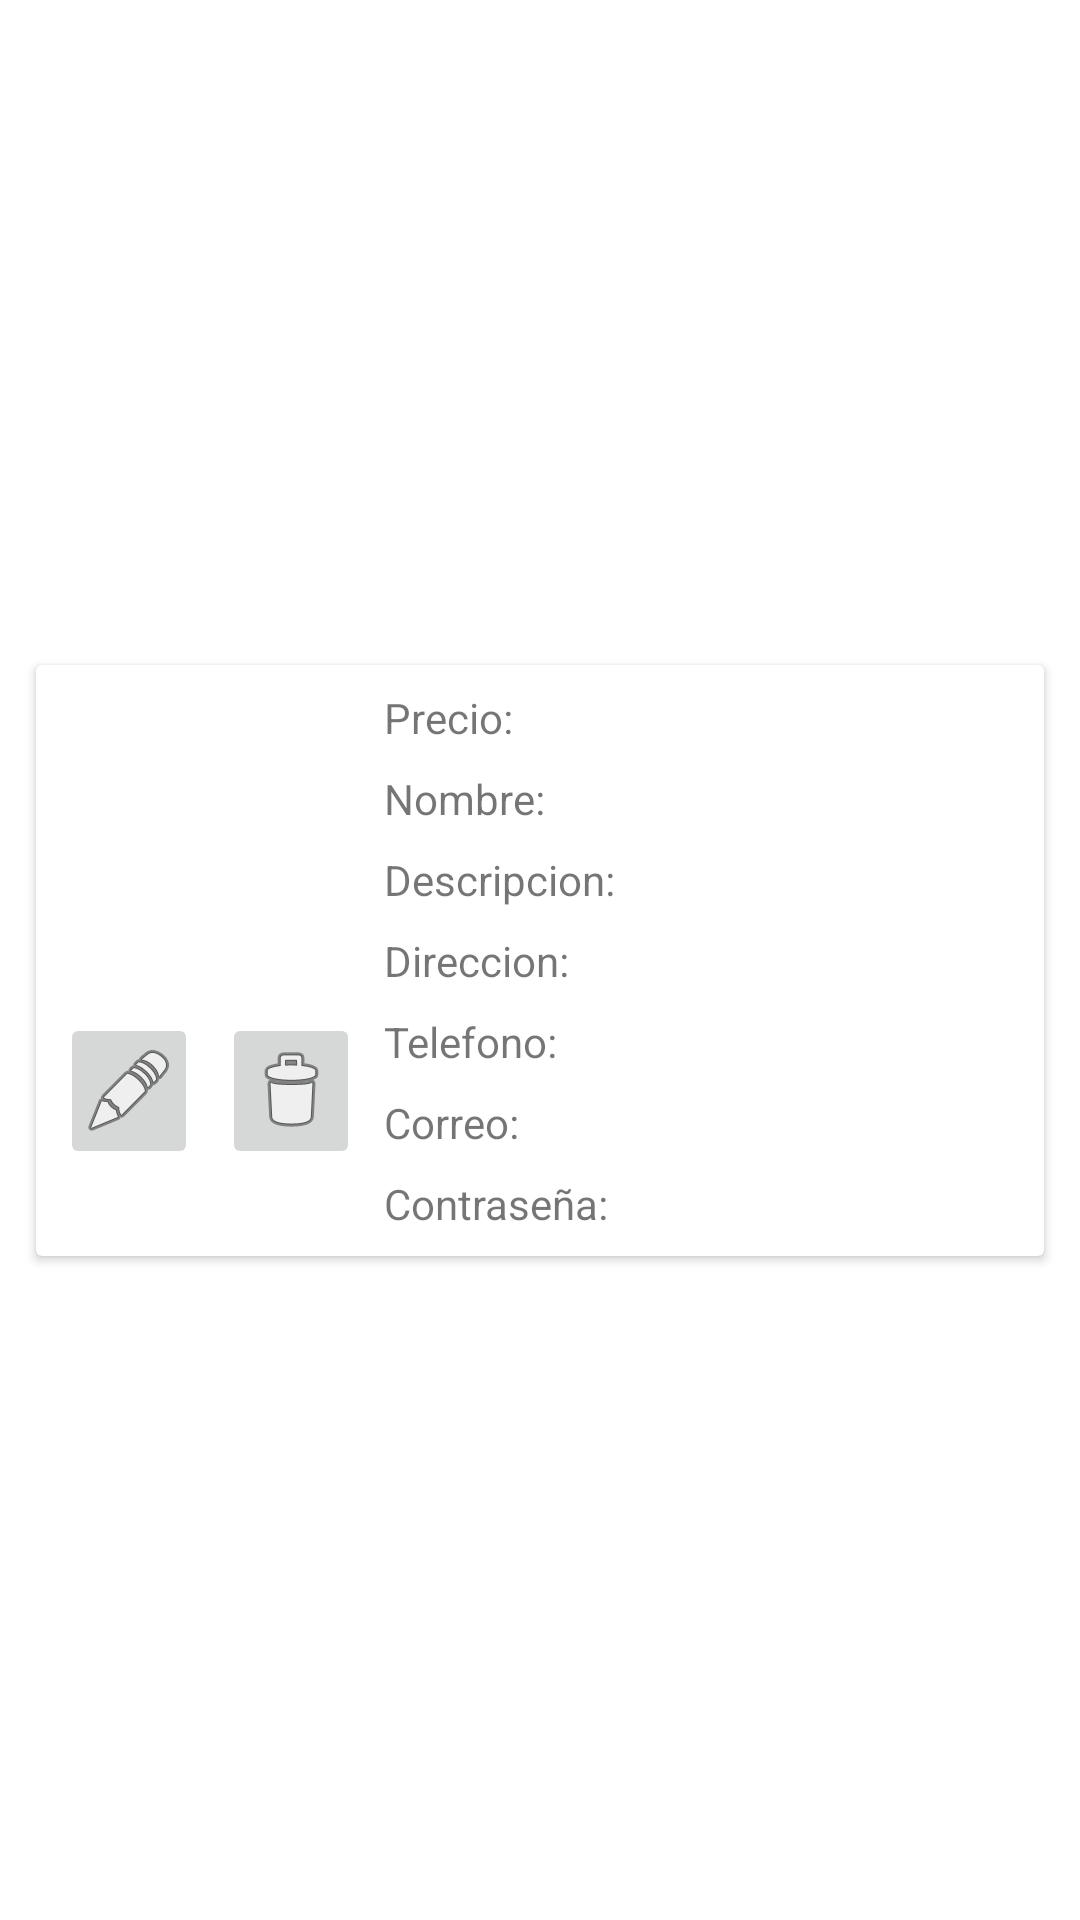

Named icons in this screenshot (1080px×1920px) and their bounding boxes, (x1, y1, x2, y2):
delete: (234, 1031, 348, 1151)
edit: (72, 1031, 186, 1151)
